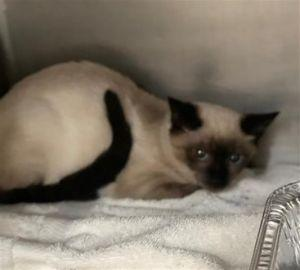siamese: (166, 83, 278, 203)
